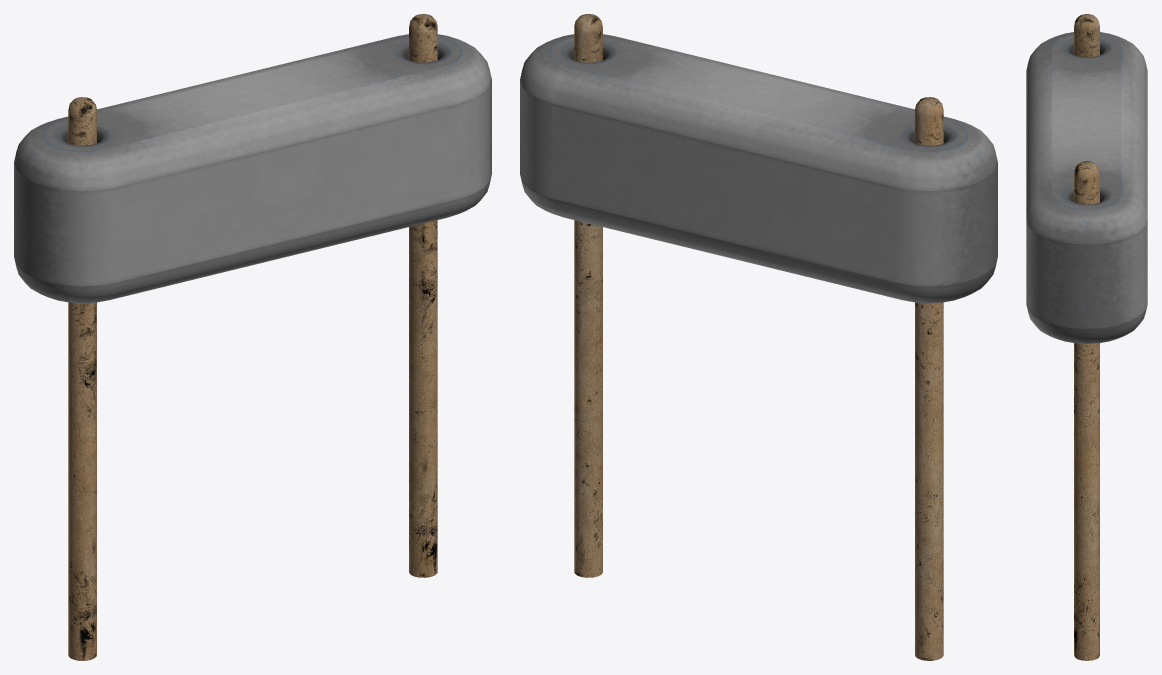
Rendered from Obstacle-29.fbx.
3 renders of one model, left to right at view 1: azimuth 30°, elevation 25°; view 2: azimuth 150°, elevation 25°; view 3: azimuth 270°, elevation 25°, orthographic. The views are drawn at different scales.
Visible parts, largest first — view 1: Obstacle-29, Obstacle-29-Poles; view 2: Obstacle-29, Obstacle-29-Poles; view 3: Obstacle-29, Obstacle-29-Poles.
Part boxes in pixels (x1,y1,x2,y2): Obstacle-29: [14, 34, 491, 303]; Obstacle-29-Poles: [68, 14, 437, 660]; Obstacle-29: [520, 34, 997, 303]; Obstacle-29-Poles: [574, 14, 943, 660]; Obstacle-29: [1026, 32, 1147, 343]; Obstacle-29-Poles: [1074, 14, 1099, 660].
Size of the model in its own units: 2.69 by 3.11 by 0.6981.
